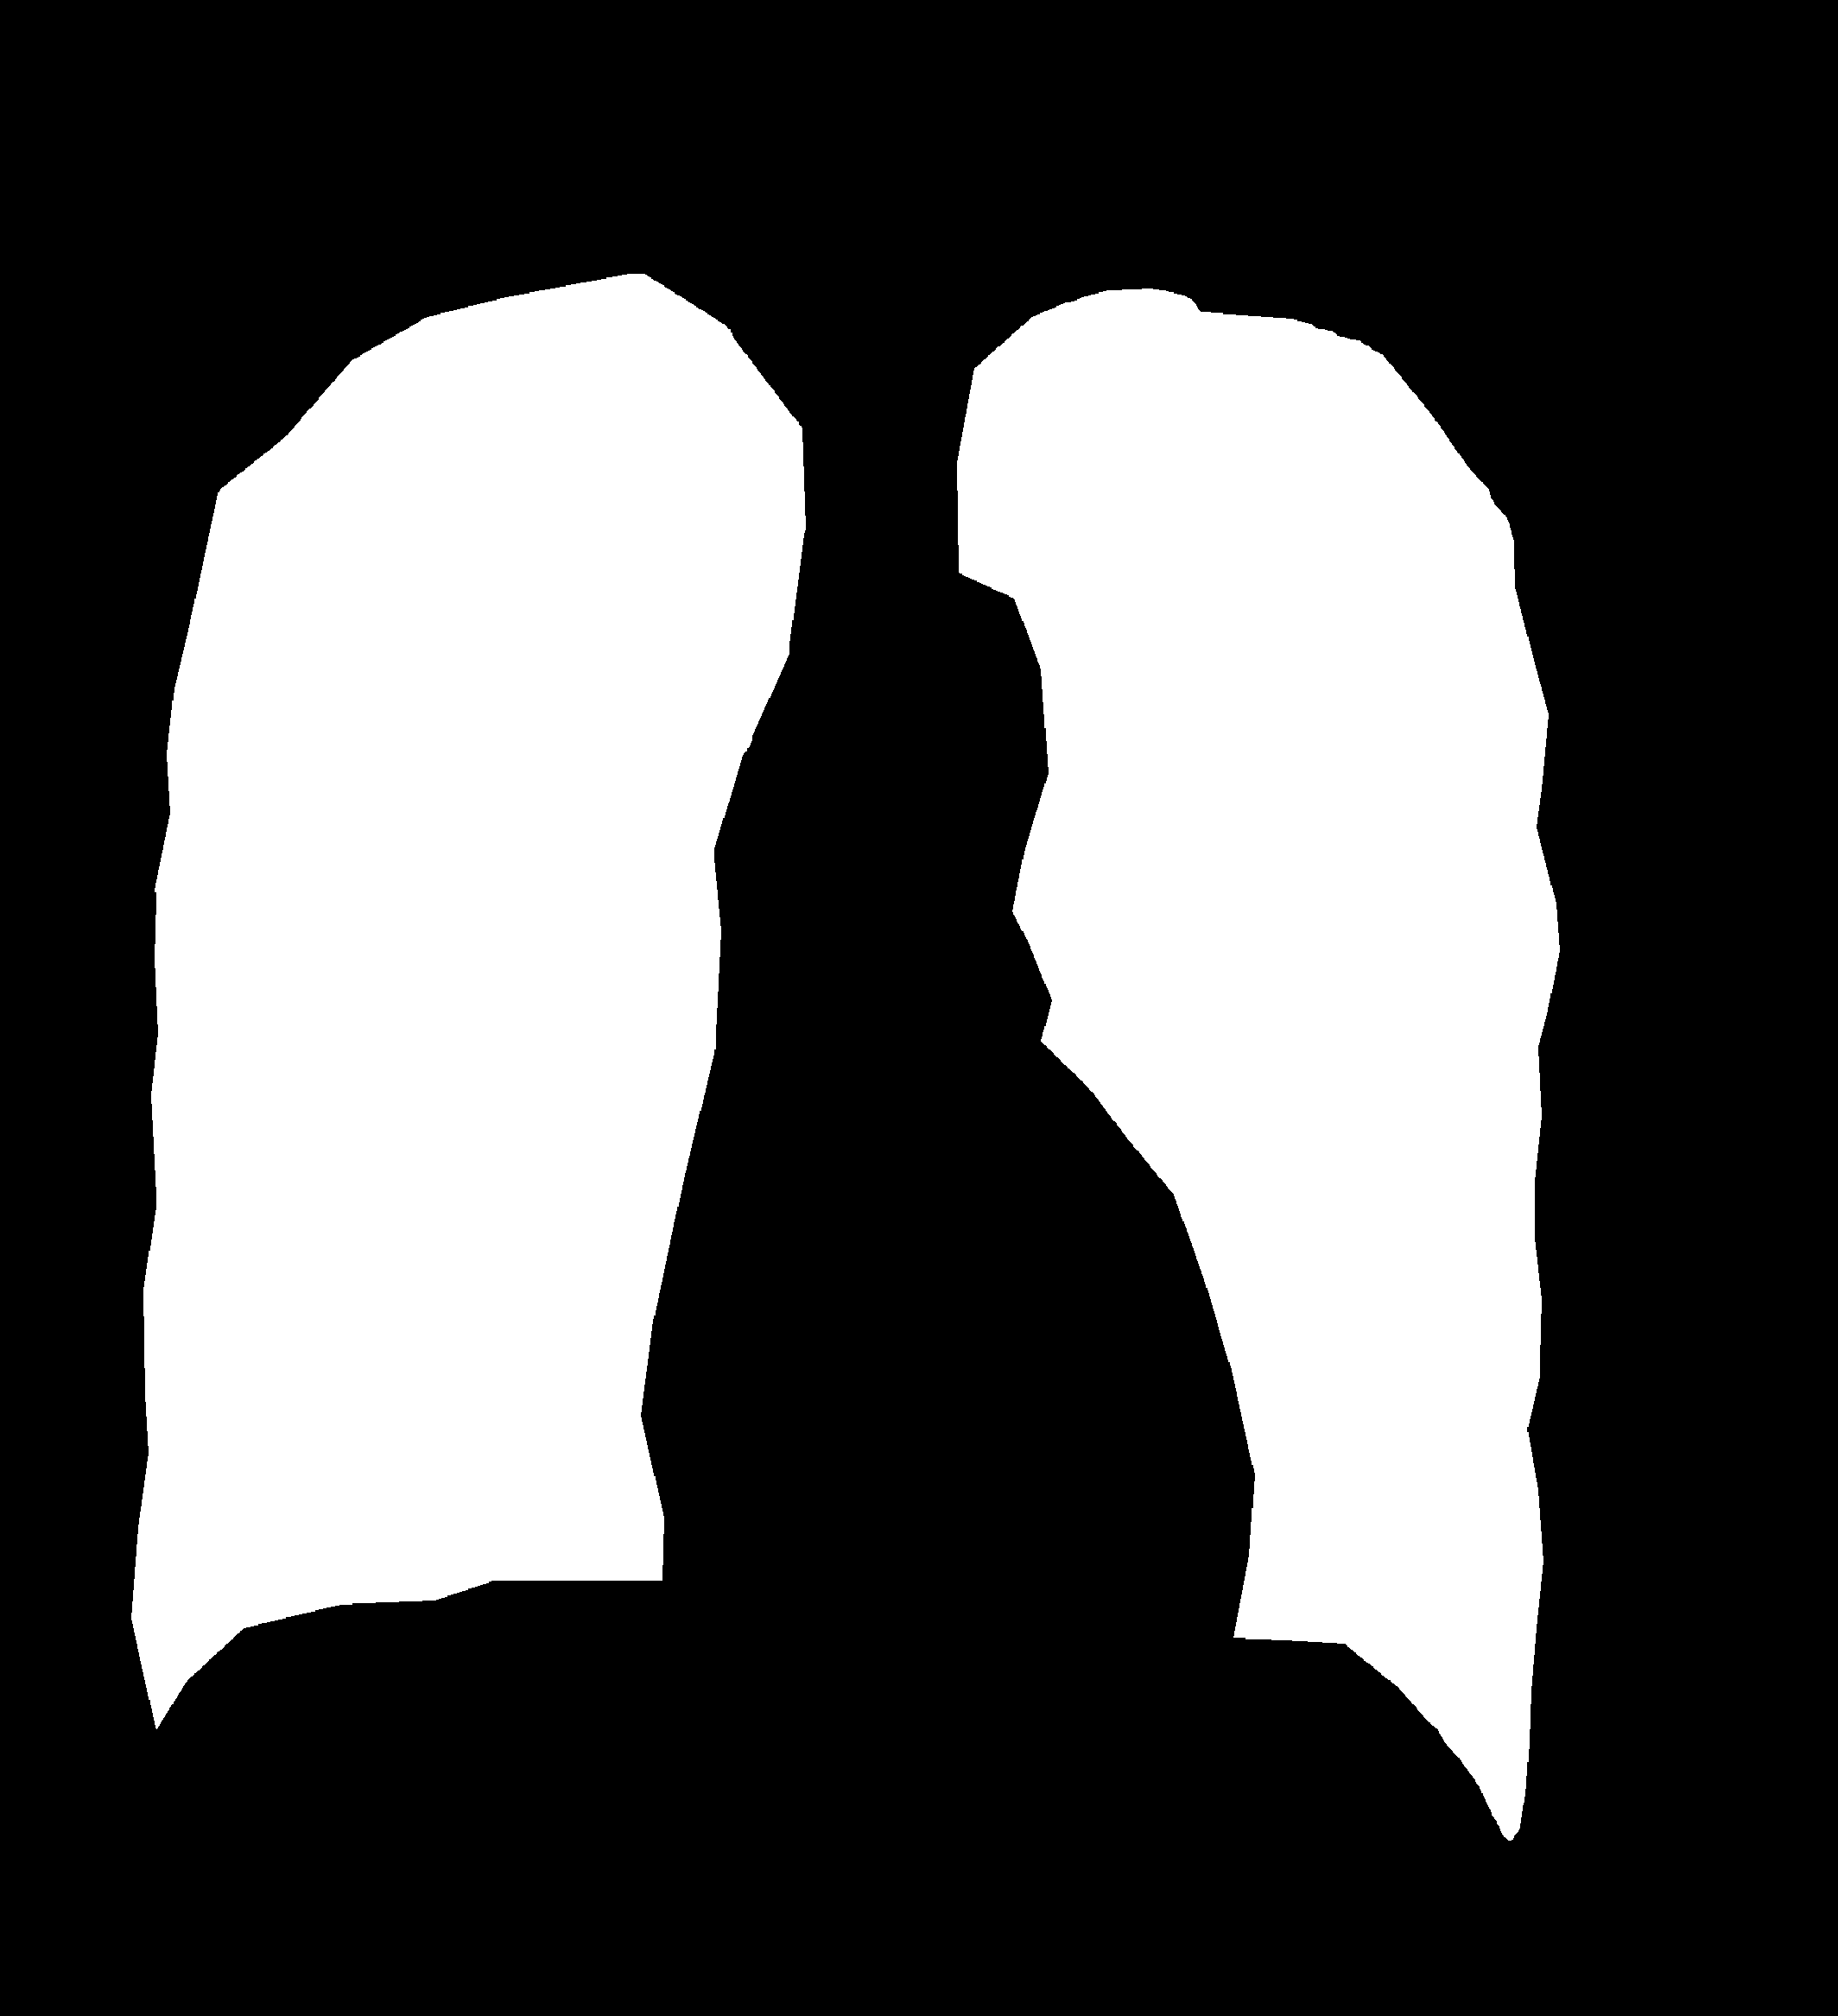heart: (625, 1163, 1259, 1732)
left_lung: (132, 274, 806, 1728)
right_lung: (957, 288, 1559, 1840)
